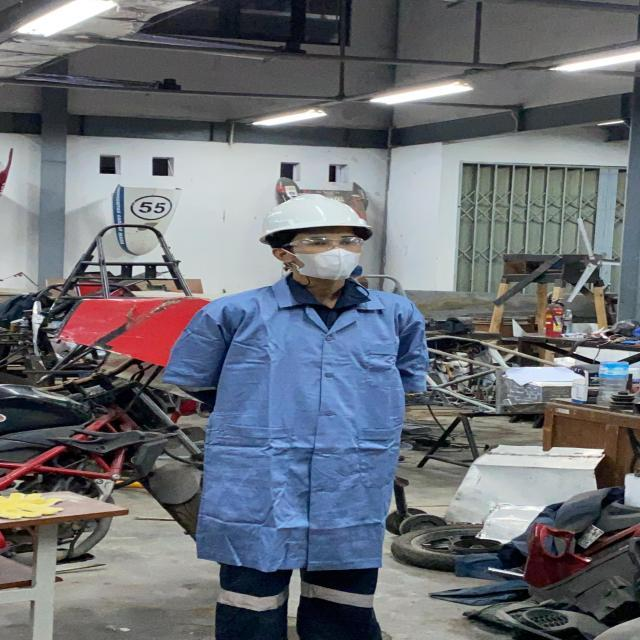helmet: (258, 192, 378, 236)
